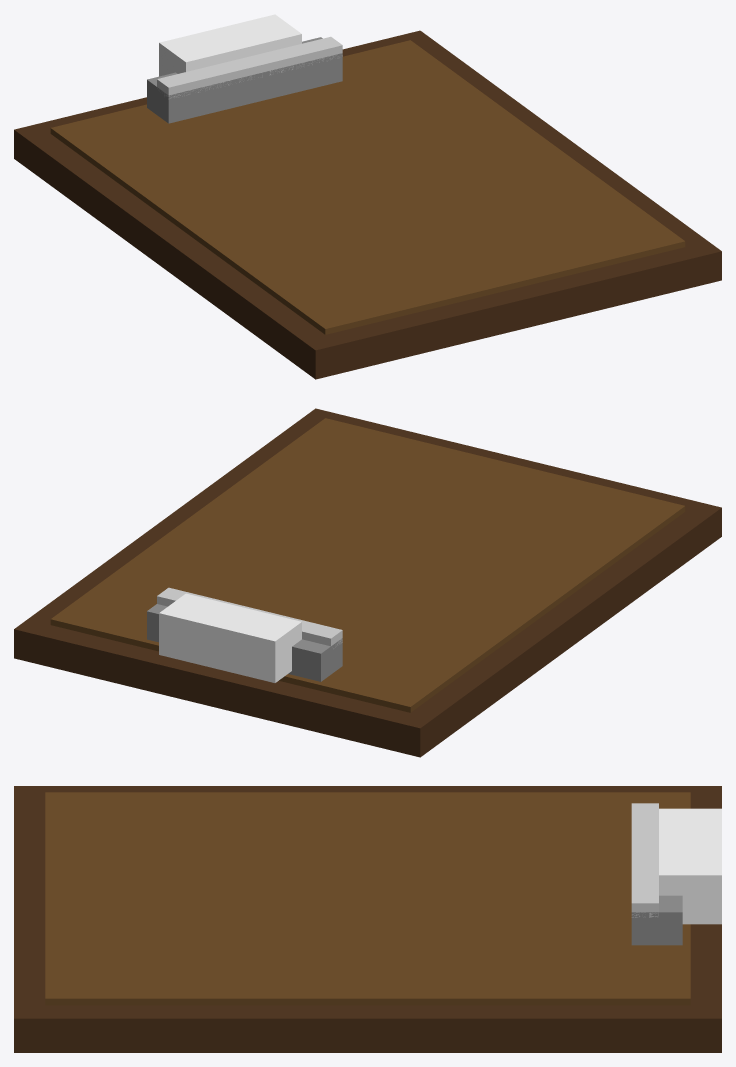
The model's file is CMU3DUtilityBoxFolderClipboardCloud.glb.
3 renders of one model, top to bottom at view 1: azimuth 30°, elevation 25°; view 2: azimuth 150°, elevation 25°; view 3: azimuth 270°, elevation 25°, orthographic. The views are drawn at different scales.
Visible parts, largest first — view 1: warm wood upper board, solid wooden clipboard backing, silver clip lower spring foot, clip raised spring body, clip curved spring lip; view 2: warm wood upper board, solid wooden clipboard backing, clip raised spring body, silver clip lower spring foot, clip curved spring lip; view 3: warm wood upper board, solid wooden clipboard backing, clip raised spring body, clip curved spring lip, silver clip lower spring foot.
Boxes of the visible parts, left/top/right/bottom form: warm wood upper board: left=50, top=40, right=685, bottom=334; solid wooden clipboard backing: left=14, top=30, right=721, bottom=379; silver clip lower spring foot: left=147, top=37, right=342, bottom=123; clip raised spring body: left=159, top=14, right=301, bottom=76; clip curved spring lip: left=157, top=36, right=342, bottom=99; warm wood upper board: left=50, top=418, right=685, bottom=712; solid wooden clipboard backing: left=14, top=408, right=721, bottom=757; clip raised spring body: left=159, top=593, right=301, bottom=682; silver clip lower spring foot: left=147, top=604, right=342, bottom=681; clip curved spring lip: left=157, top=587, right=342, bottom=648; warm wood upper board: left=45, top=792, right=690, bottom=1005; solid wooden clipboard backing: left=14, top=786, right=721, bottom=1052; clip raised spring body: left=659, top=808, right=721, bottom=924; clip curved spring lip: left=631, top=803, right=658, bottom=917; silver clip lower spring foot: left=631, top=895, right=682, bottom=945.
Size of the model in its own units: 0.4375 by 0.083 by 0.5625.
